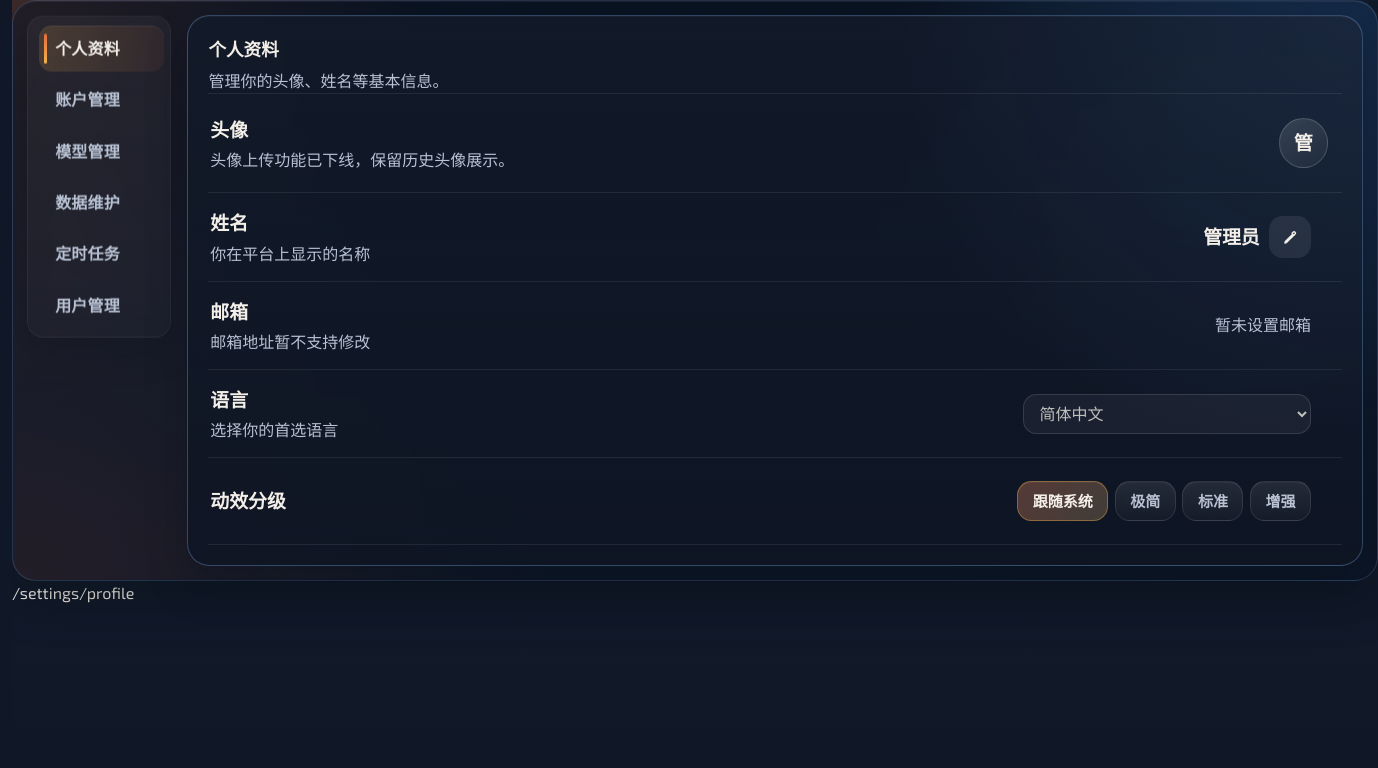
SettingsPage model management view switch › renders profile information architecture sections
expect the heading "个人资料" is shown: met, box [208, 38, 279, 60]
expect the heading "姓名" is shown: met, box [210, 211, 248, 234]
What coordinates should you click on to do the following:
click the button named "编辑姓名"
I would click on:
 (1290, 237)
Its box is [1269, 216, 1311, 258].
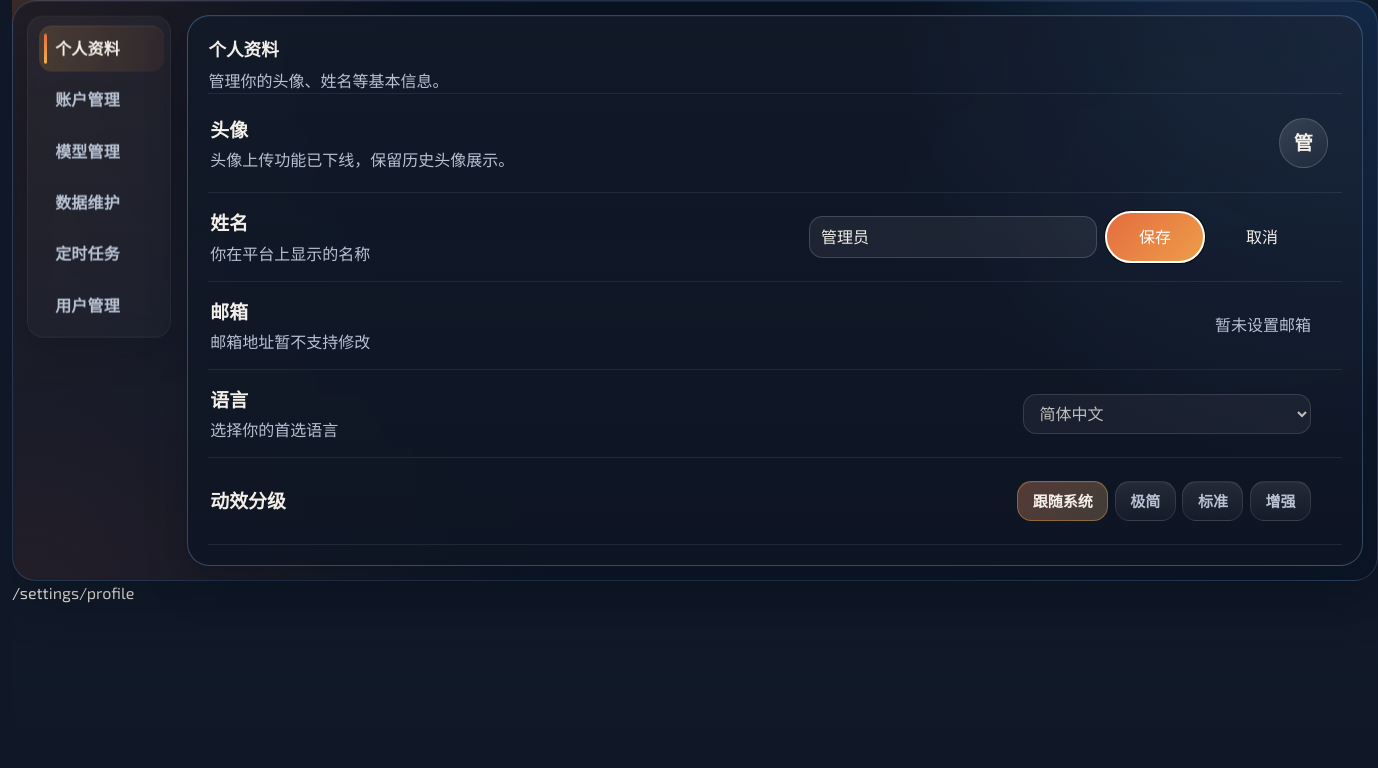
expect the field named "昵称" is shown: met, box [808, 216, 1096, 258]
expect the button "保存" is shown: met, box [1106, 212, 1204, 262]
expect the button "取消" is shown: met, box [1213, 212, 1311, 262]
